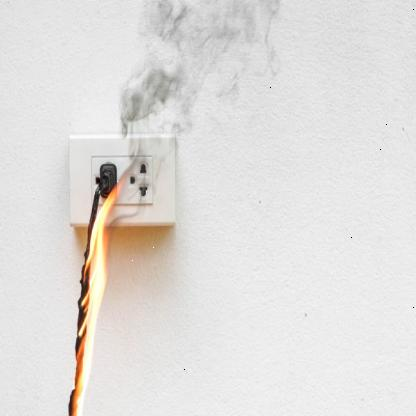fire: (60, 188, 114, 416)
smoke: (111, 7, 296, 194)
